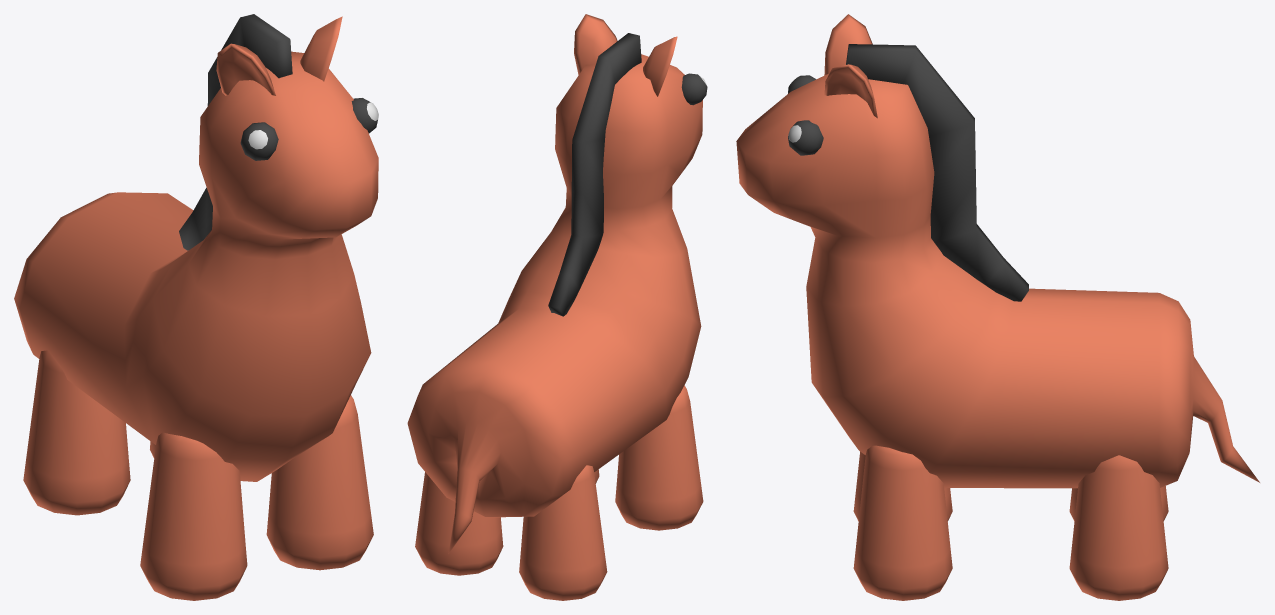
3 views of the same model, side by side, from view 1: azimuth 30°, elevation 25°; view 2: azimuth 150°, elevation 25°; view 3: azimuth 270°, elevation 25° (orthographic). The views are drawn at different scales.
Parts seen in each view (by area): view 1: 44; view 2: 44; view 3: 44.
Boxes of the visible parts, <box> form: 44: <box>14,14,378,600</box>; 44: <box>407,14,707,600</box>; 44: <box>736,14,1259,600</box>.
Size of the model in its own units: 173 by 420 by 387.
